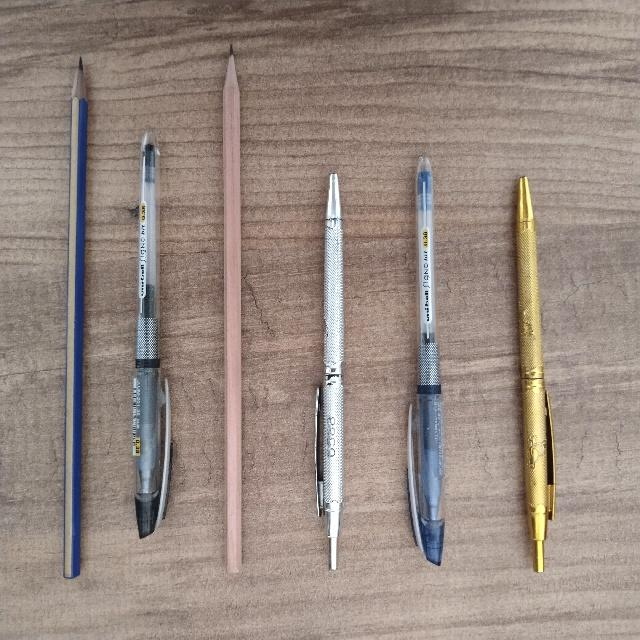pen: (132, 131, 170, 537), (408, 156, 444, 565)
pencil: (63, 58, 87, 577), (223, 47, 241, 572)
signature pen: (516, 177, 554, 571), (315, 173, 343, 569)
